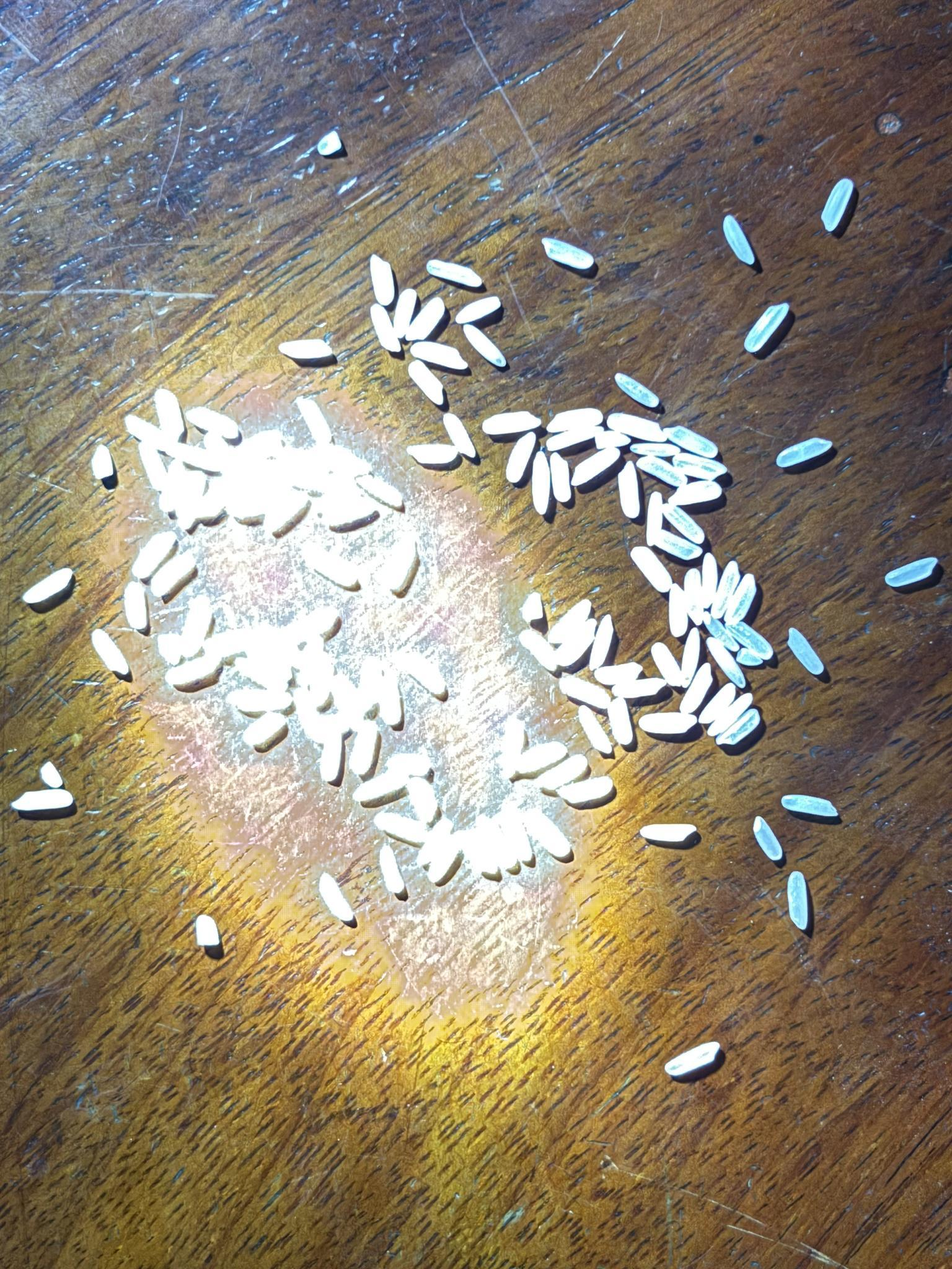Rice-th-y-nh: (302, 544, 359, 588), (744, 302, 790, 353), (393, 651, 447, 694), (276, 447, 325, 492), (477, 815, 517, 870), (132, 530, 176, 579), (292, 685, 328, 744), (261, 490, 309, 534), (150, 552, 196, 597), (527, 811, 571, 858), (256, 621, 300, 668), (630, 545, 672, 594), (330, 674, 366, 730), (180, 595, 213, 656), (548, 599, 591, 645), (556, 619, 596, 668), (706, 636, 745, 686), (124, 415, 178, 451), (383, 534, 417, 591), (498, 805, 532, 862), (709, 693, 754, 736), (352, 655, 387, 710), (456, 828, 496, 876), (375, 810, 429, 845), (235, 656, 289, 691), (536, 754, 588, 790), (167, 653, 222, 687), (572, 447, 621, 485), (24, 567, 73, 605), (463, 324, 506, 367), (297, 397, 333, 448), (167, 440, 222, 473), (320, 714, 346, 783), (665, 1044, 721, 1076), (416, 817, 453, 865), (317, 873, 353, 922), (322, 495, 377, 527), (407, 297, 446, 342), (90, 630, 129, 675), (355, 769, 408, 802), (787, 628, 824, 675), (411, 340, 467, 371), (428, 832, 461, 884), (729, 621, 774, 659), (175, 472, 206, 527), (407, 360, 444, 406), (515, 741, 566, 774), (680, 663, 713, 714), (559, 676, 610, 709), (663, 505, 705, 545), (321, 443, 370, 477), (542, 237, 594, 269), (821, 179, 853, 231), (187, 405, 239, 437), (711, 561, 740, 618), (500, 716, 528, 775), (637, 454, 687, 487), (350, 719, 380, 774), (154, 389, 184, 444), (725, 575, 757, 626), (243, 710, 287, 747), (722, 216, 755, 265), (668, 424, 717, 457), (715, 709, 761, 744), (776, 438, 831, 467), (427, 258, 482, 287), (610, 412, 663, 442), (505, 432, 536, 483), (885, 558, 939, 587), (614, 373, 660, 407), (520, 628, 557, 670), (357, 475, 403, 508), (699, 683, 736, 724), (233, 688, 291, 714), (578, 707, 610, 754), (209, 626, 256, 658), (369, 304, 400, 352), (651, 643, 684, 688), (443, 413, 476, 458), (668, 480, 723, 507), (407, 776, 439, 822), (588, 616, 615, 670), (235, 430, 282, 461), (546, 407, 602, 433), (159, 460, 187, 512), (309, 650, 335, 706), (559, 778, 614, 804), (544, 425, 599, 451), (617, 462, 642, 519), (194, 476, 227, 519), (655, 530, 702, 560), (12, 788, 73, 811), (751, 816, 782, 861), (482, 411, 540, 435), (786, 871, 810, 929), (378, 844, 405, 895), (782, 793, 837, 818), (529, 452, 551, 514), (138, 442, 167, 489), (607, 697, 634, 746), (378, 670, 402, 725), (677, 455, 725, 482), (455, 296, 500, 324), (703, 615, 739, 650), (640, 712, 697, 734), (392, 288, 418, 336), (370, 255, 394, 306), (680, 629, 702, 683), (124, 580, 148, 629), (594, 662, 642, 686), (204, 432, 235, 469), (386, 751, 431, 776), (280, 338, 331, 360), (549, 453, 571, 503), (668, 585, 689, 637), (699, 553, 720, 605), (409, 443, 457, 465), (683, 569, 705, 617), (614, 678, 664, 699), (641, 823, 694, 842), (646, 492, 663, 545), (633, 441, 680, 459), (156, 633, 182, 665), (91, 444, 114, 480), (195, 915, 219, 946), (595, 430, 631, 449), (522, 592, 544, 622), (317, 130, 342, 156), (40, 762, 63, 788), (736, 648, 763, 667)
